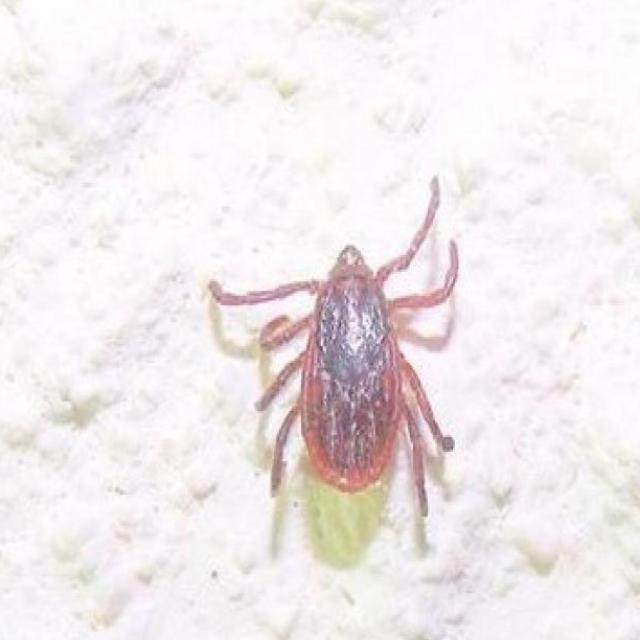Rhipicephalus Sanguineus-F: (207, 176, 460, 516)
